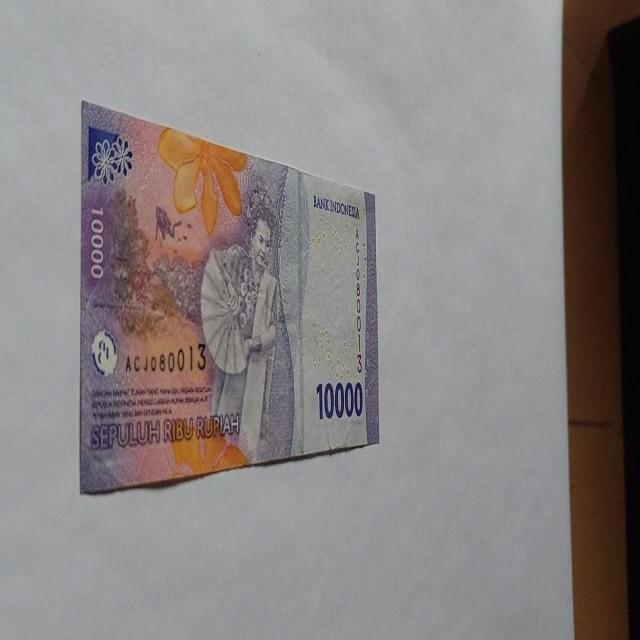Kertas: (78, 99, 380, 494), (315, 379, 363, 421)
